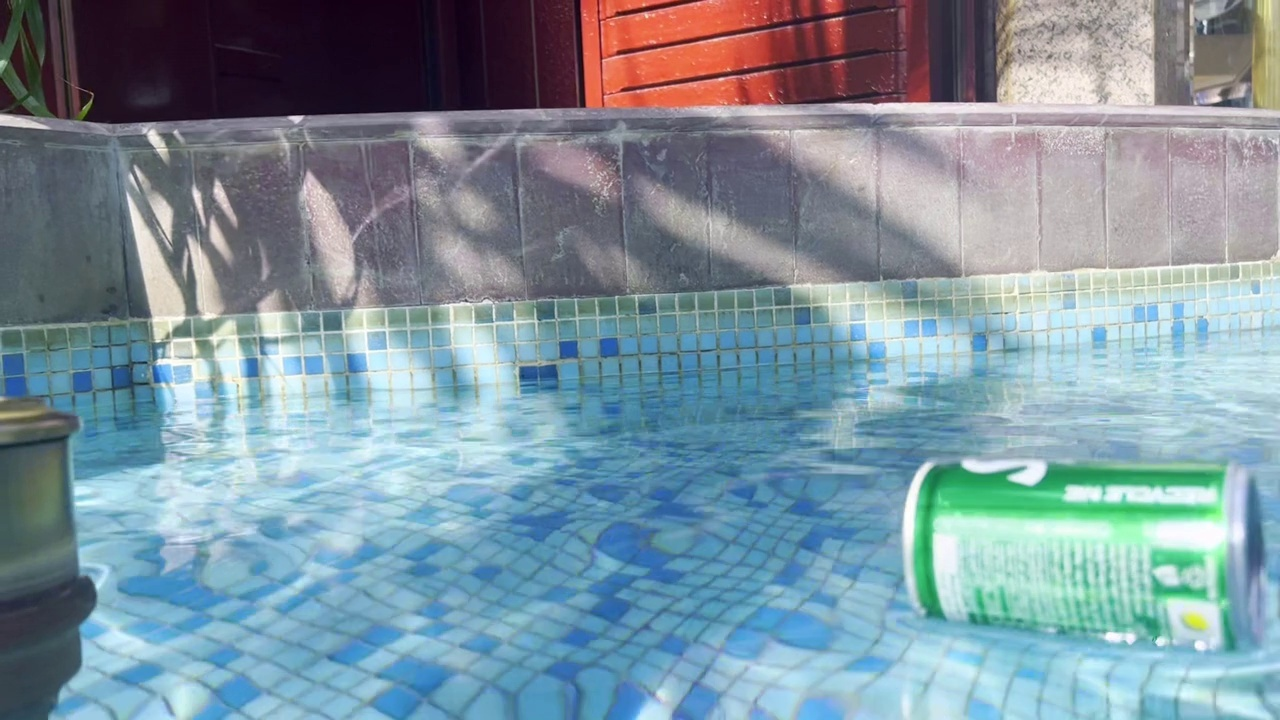debris: (881, 440, 1276, 663)
